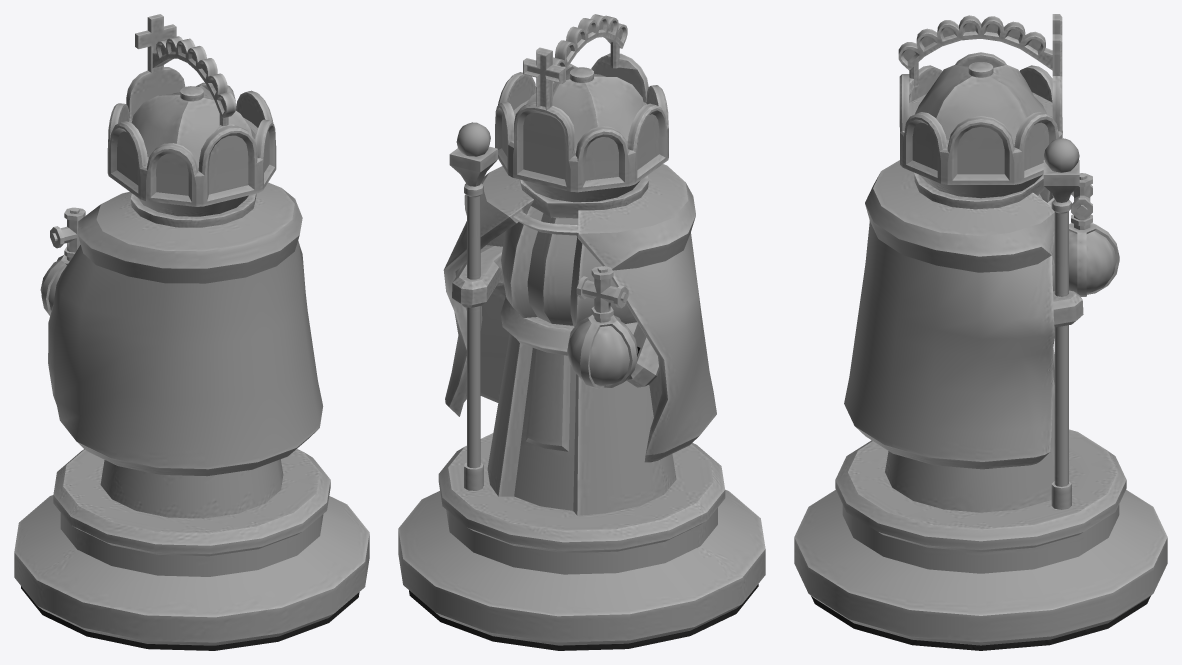
The picture shows the model from 3 angles, left to right: view 1: azimuth 30°, elevation 25°; view 2: azimuth 150°, elevation 25°; view 3: azimuth 270°, elevation 25°; orthographic projection. The views are drawn at different scales.
Visible parts, largest first — view 1: Object_54.001; view 2: Object_54.001; view 3: Object_54.001.
Part boxes in pixels (x1,y1,x2,y2): Object_54.001: (14, 14, 369, 650); Object_54.001: (398, 14, 765, 650); Object_54.001: (794, 14, 1167, 650).
Size of the model in its own units: 1.12 by 1.85 by 1.13.
1 material, 1 textured.
